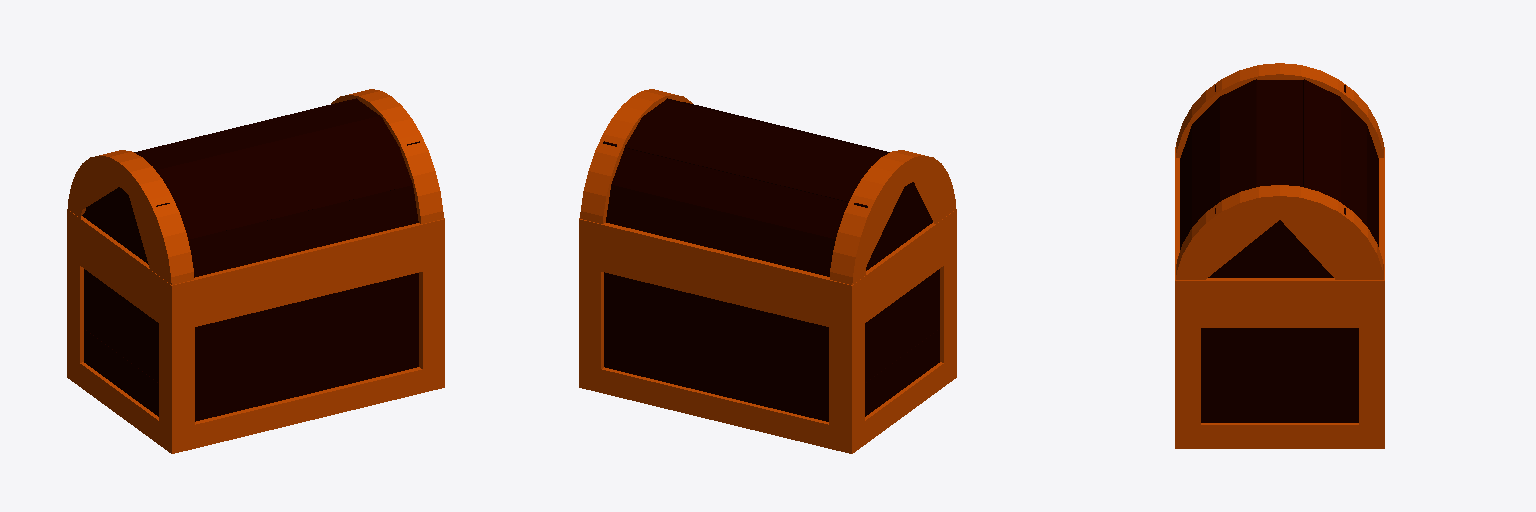
Rendered from treasurechest01.obj.
3 renders of one model, left to right at view 1: azimuth 30°, elevation 25°; view 2: azimuth 150°, elevation 25°; view 3: azimuth 270°, elevation 25°, orthographic.
Visible parts, largest first — view 1: 立方体.034_立方体.036, 立方体.033_立方体.035, 立方体.016_立方体.017, 立方体.035_立方体.037, 円柱, 立方体.002, 立方体.029_立方体.030, 立方体.017_立方体.018, 立方体.015_立方体.016, 立方体.009, 立方体.036_立方体.038, 立方体.013 (+11 smaller); view 2: 立方体.039_立方体.041, 立方体.038_立方体.040, 立方体.001_立方体.014, 立方体.037_立方体.039, 円柱, 立方体.031_立方体.032, 立方体.014_立方体.015, 立方体, 立方体.004, 立方体.007, 立方体.036_立方体.038, 立方体.012 (+11 smaller); view 3: 円柱.001_円柱.002, 立方体.024_立方体.025, 立方体.036_立方体.038, 立方体.023_立方体.024, 立方体.032_立方体.033, 立方体.025_立方体.026, 立方体.010, 立方体.006, 立方体.037_立方体.039, 立方体.035_立方体.037, 円柱, 立方体.040_立方体.042 (+9 smaller).
Part boxes in pixels (x1,y1,x2,y2): 立方体.034_立方体.036: (175, 146, 412, 239); 立方体.033_立方体.035: (188, 185, 418, 277); 立方体.016_立方体.017: (195, 301, 418, 392); 立方体.035_立方体.037: (156, 116, 397, 200); 円柱: (68, 150, 193, 284); 立方体.002: (159, 364, 444, 453); 立方体.029_立方体.030: (159, 219, 444, 308); 立方体.017_立方体.018: (195, 338, 418, 421); 立方体.015_立方体.016: (195, 273, 418, 354); 立方体.009: (159, 244, 444, 331); 立方体.036_立方体.038: (136, 99, 379, 169); 立方体.013: (159, 303, 194, 453); 立方体.039_立方体.041: (611, 148, 848, 238); 立方体.038_立方体.040: (606, 185, 835, 276); 立方体.001_立方体.014: (604, 301, 828, 393); 立方体.037_立方体.039: (625, 116, 867, 201); 円柱: (830, 150, 955, 284); 立方体.031_立方体.032: (579, 218, 864, 308); 立方体.014_立方体.015: (604, 272, 828, 355); 立方体: (604, 339, 828, 421); 立方体.004: (579, 364, 864, 453); 立方体.007: (582, 243, 864, 332); 立方体.036_立方体.038: (644, 99, 887, 169); 立方体.012: (829, 302, 864, 451); 円柱.001_円柱.002: (1176, 185, 1383, 279); 立方体.024_立方体.025: (1201, 356, 1358, 393); 立方体.036_立方体.038: (1257, 80, 1302, 186); 立方体.023_立方体.024: (1201, 394, 1358, 422); 立方体.032_立方体.033: (1175, 278, 1384, 304); 立方体.025_立方体.026: (1201, 328, 1358, 355); 立方体.010: (1175, 423, 1384, 448); 立方体.006: (1175, 304, 1384, 327); 立方体.037_立方体.039: (1303, 79, 1340, 201); 立方体.035_立方体.037: (1220, 79, 1256, 201); 円柱: (1176, 63, 1383, 157); 立方体.040_立方体.042: (1208, 244, 1333, 277).
Bounding box in the file's own units: 1.2 × 1.06 × 0.8.